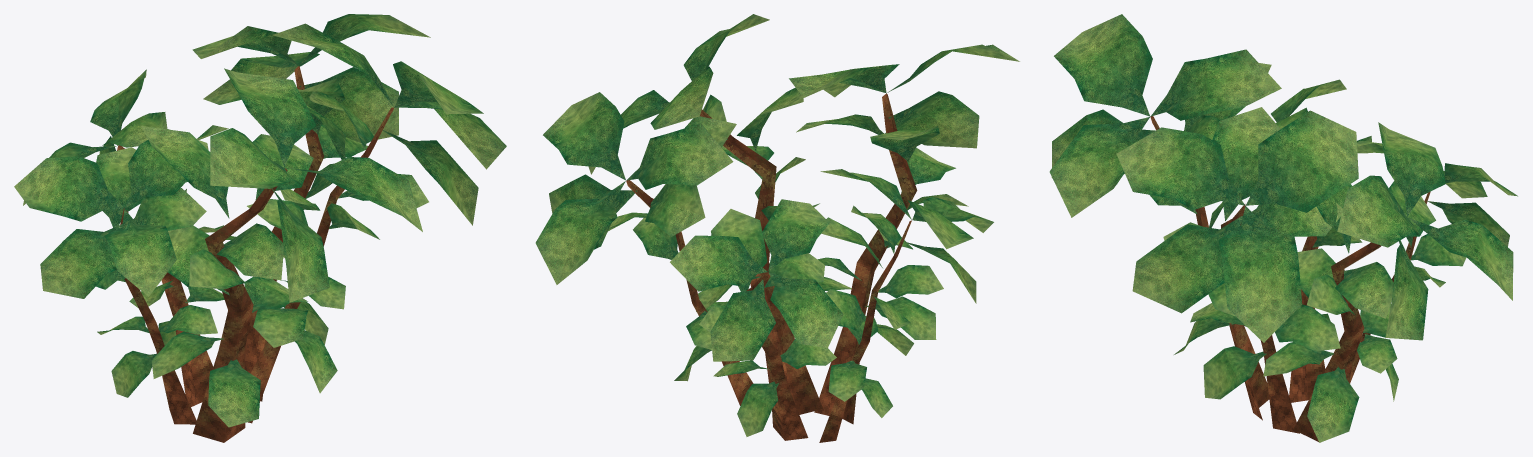
The model's file is shrub_02.glb.
3 views of the same model, side by side, from view 1: azimuth 30°, elevation 25°; view 2: azimuth 150°, elevation 25°; view 3: azimuth 270°, elevation 25° (orthographic). The views are drawn at different scales.
Parts seen in each view (by area): view 1: SHRUB_02; view 2: SHRUB_02; view 3: SHRUB_02.
Boxes of the visible parts, x1,y1,x2,y2 form: SHRUB_02: (14, 14, 506, 442); SHRUB_02: (535, 14, 1019, 442); SHRUB_02: (1049, 14, 1517, 442).
Bounding box in the file's own units: 4.14 × 3.42 × 4.01.
1 material, 1 textured.
